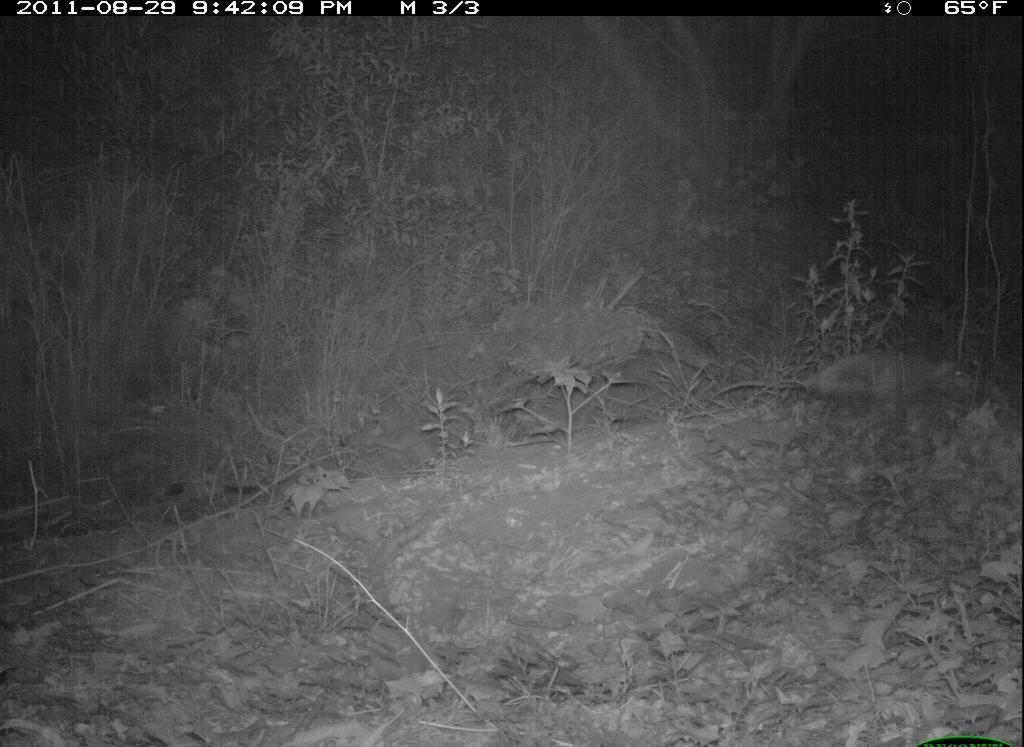opossum: (710, 337, 1010, 434)
